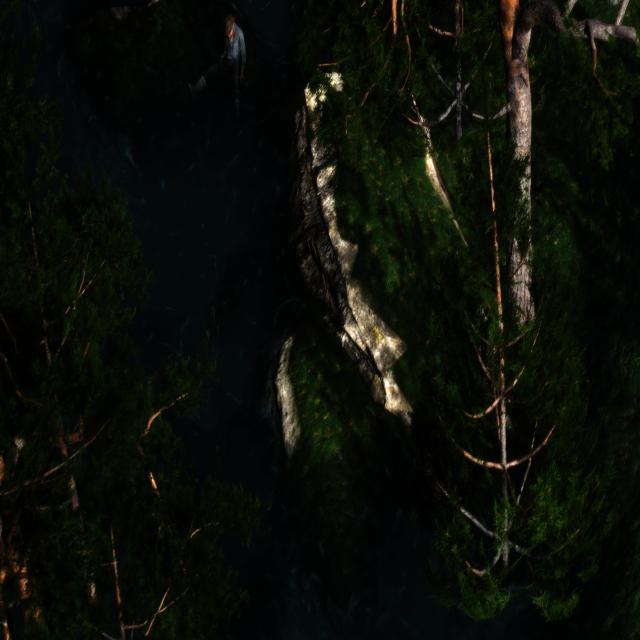Human: (182, 10, 248, 123)
